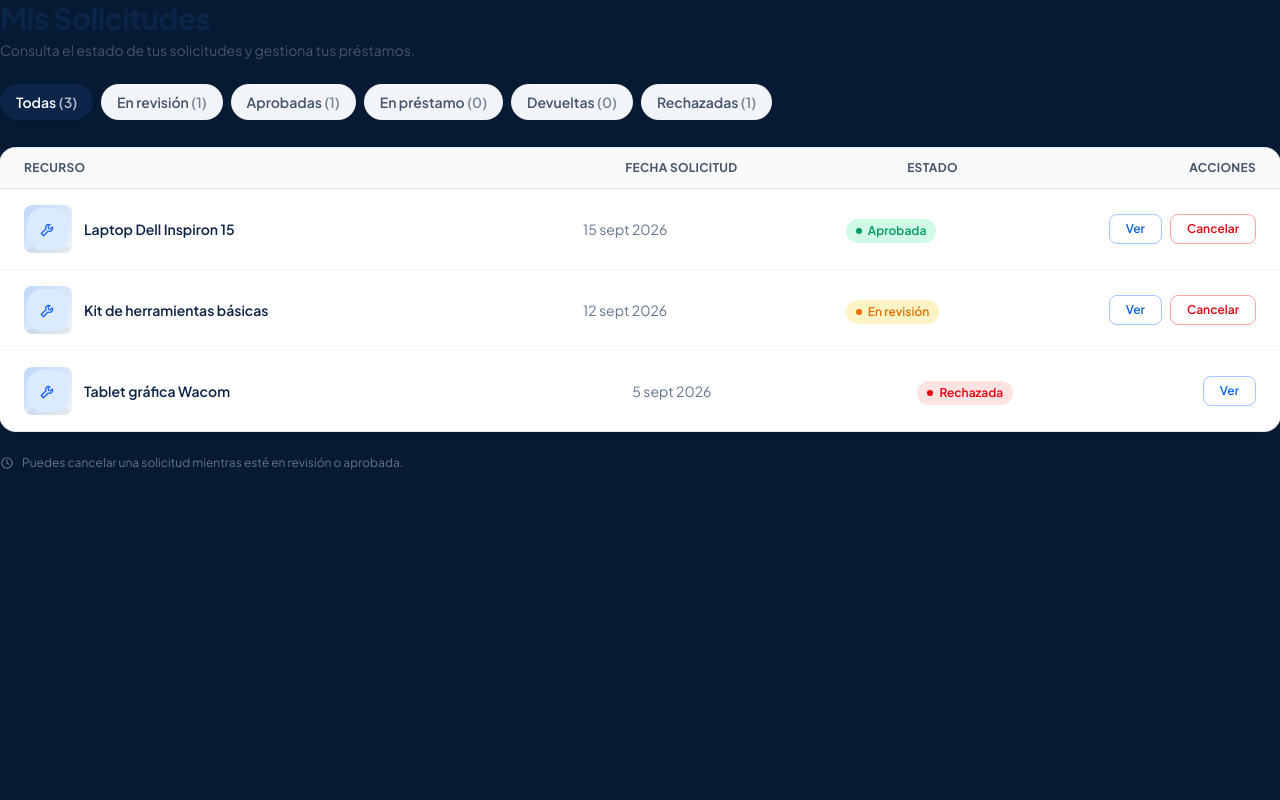
Test: Mis solicitudes (HU-007) › solo permite cancelar solicitudes en revisión o aprobadas
Click the button with aria-label "Cancelar solicitud de Kit de herramientas básicas" at (1213, 310), box x1=1170 y1=295 x2=1256 y2=325
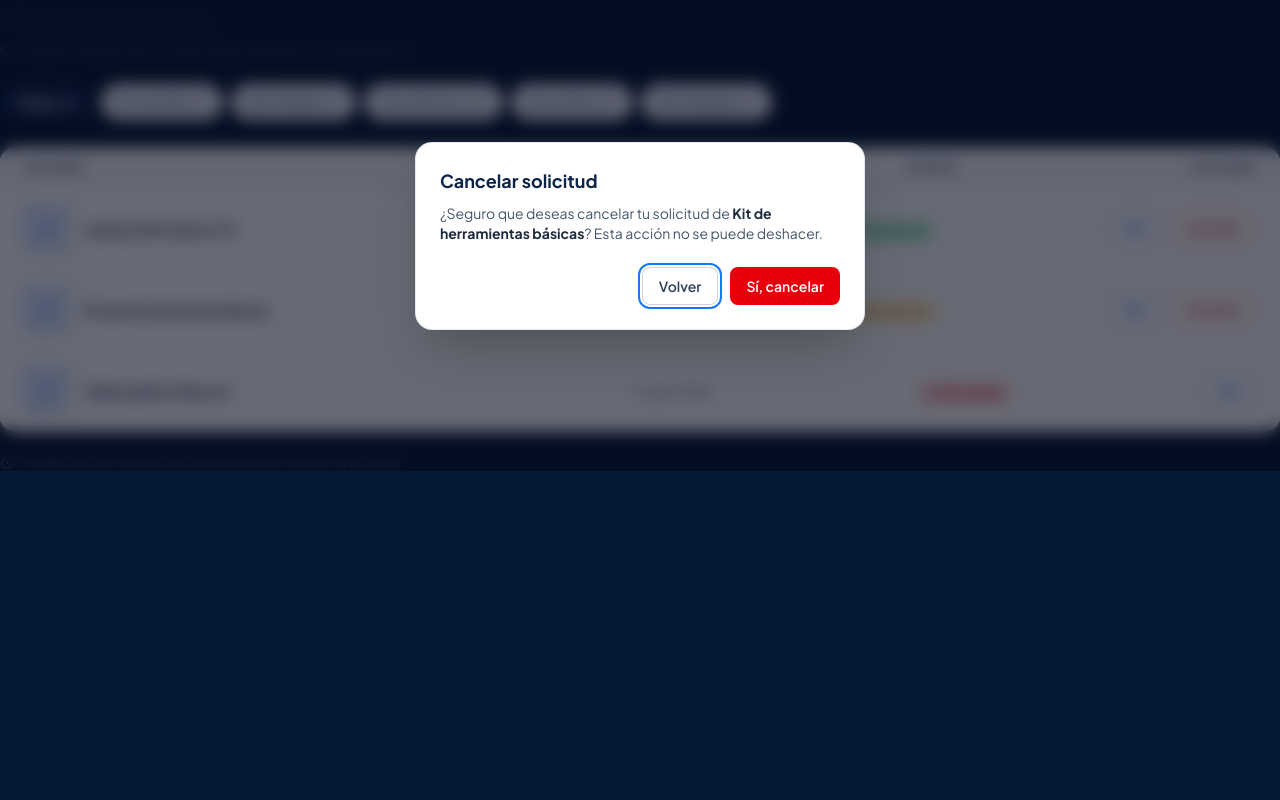
Click the button "Sí, cancelar" at (785, 286), box x1=730 y1=266 x2=840 y2=304
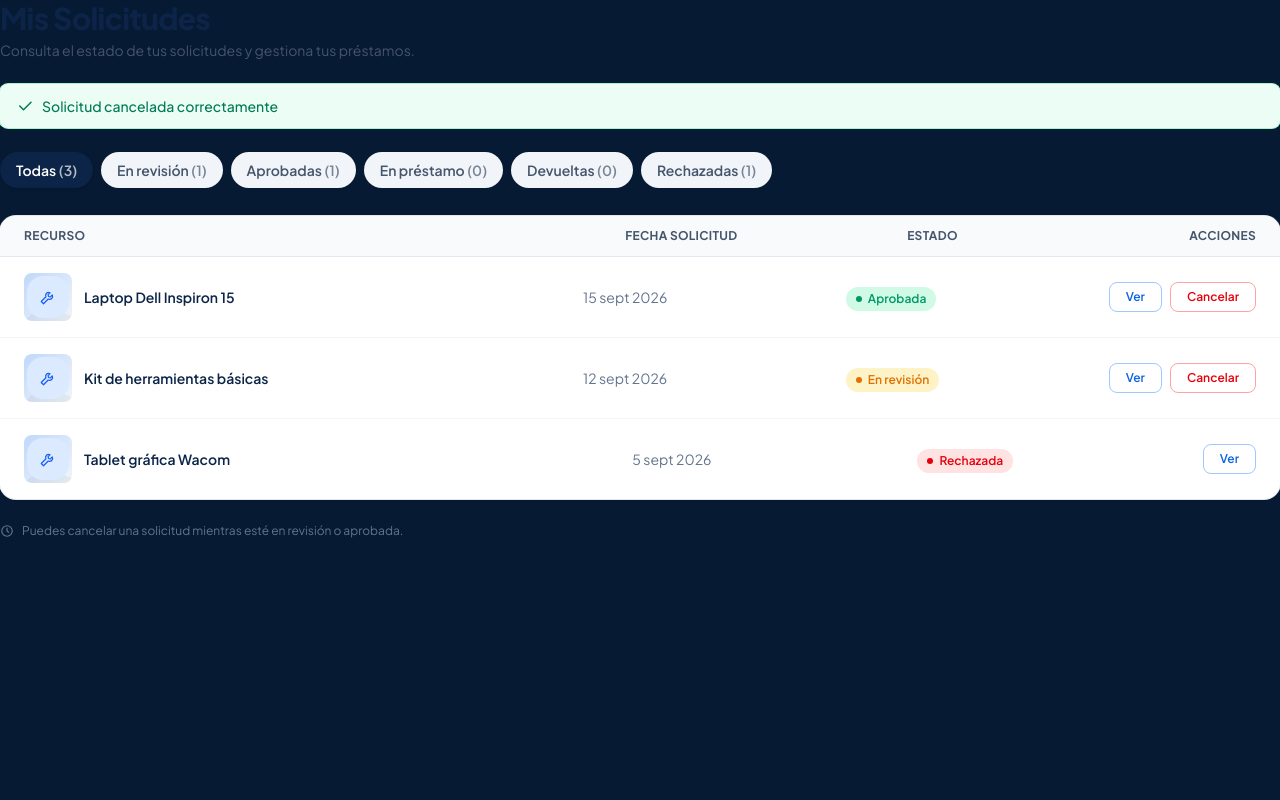
Now the text "Solicitud cancelada correctamente" is shown, box x1=42 y1=96 x2=278 y2=116
